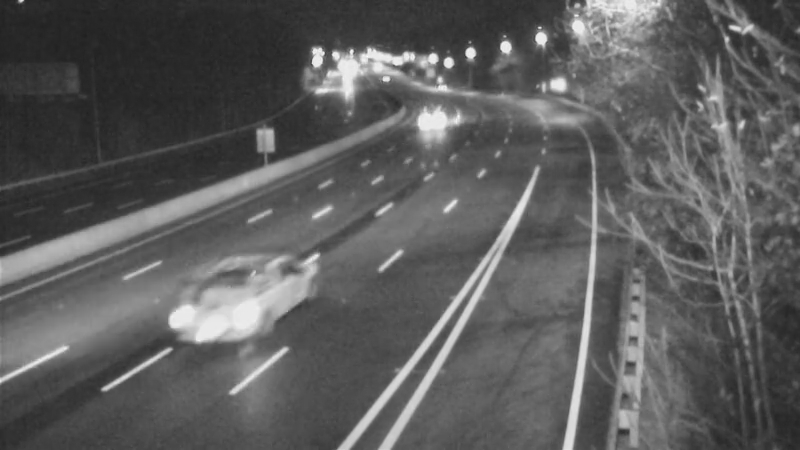vehicle: (166, 250, 276, 360), (416, 63, 466, 113), (402, 94, 452, 144)
